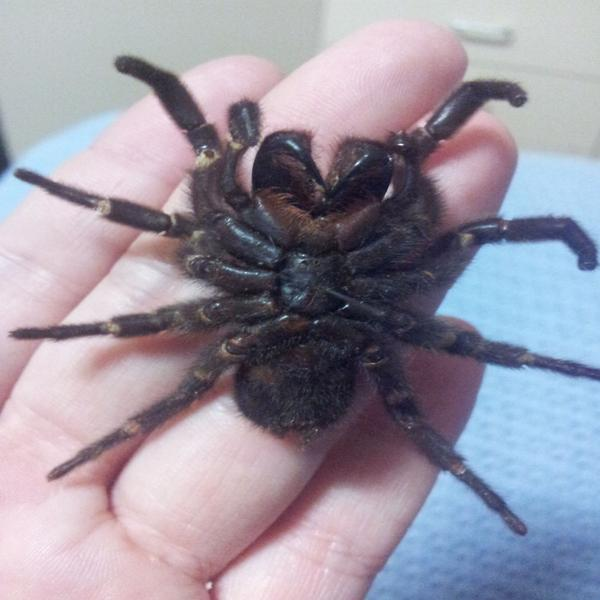Funnel Web Spider: (21, 55, 583, 534)
